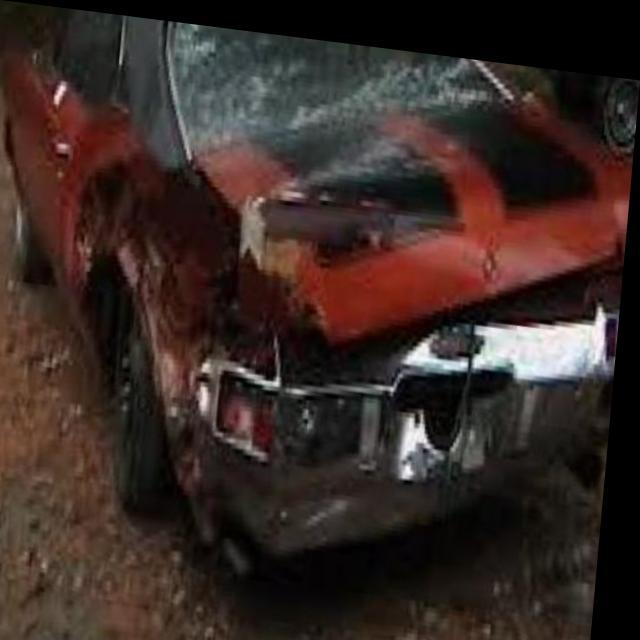dislocated part: (79, 146, 627, 568)
